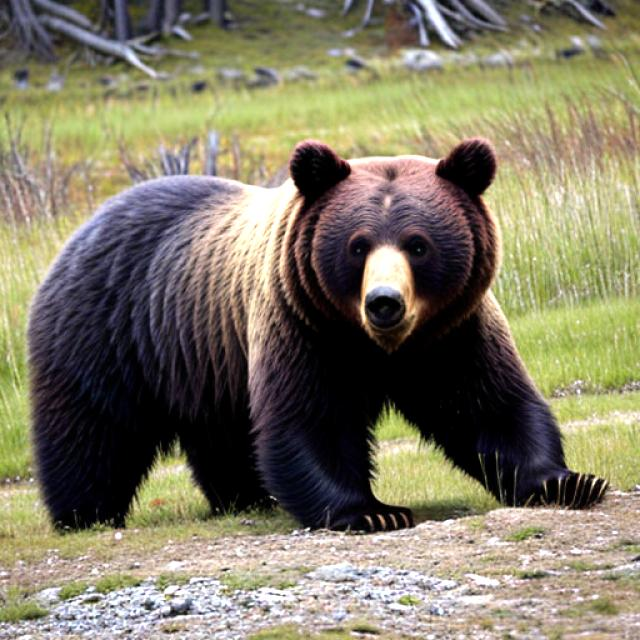bear: (25, 161, 553, 549)
